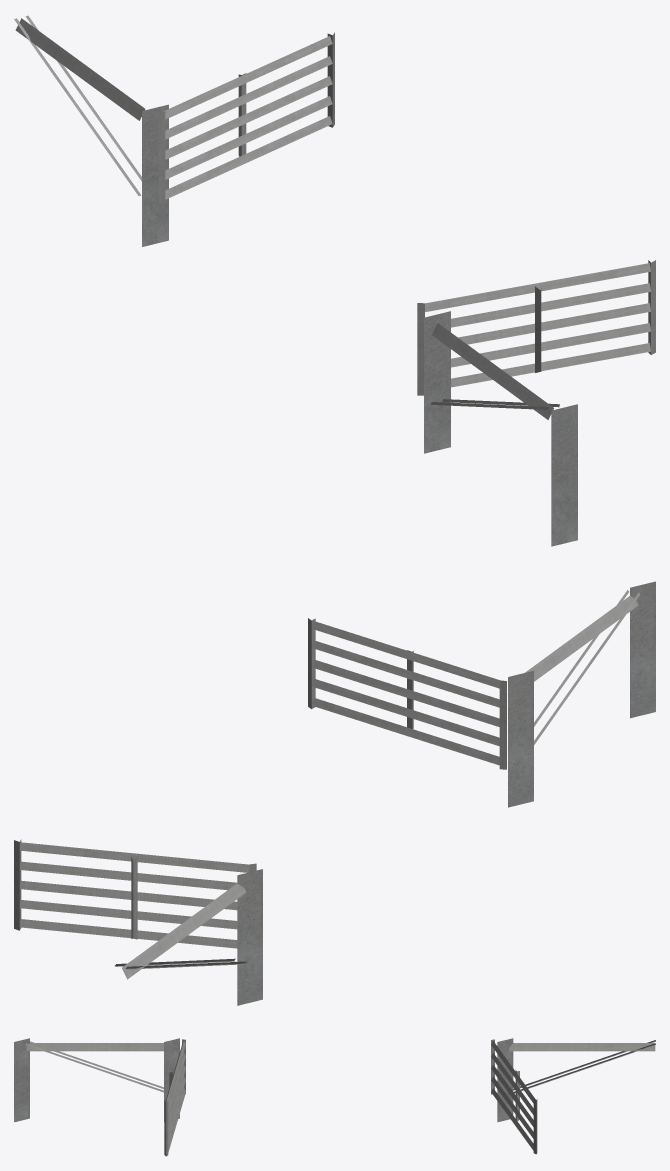
File: farm-fence-gate-open-cbj_LOD01.gltf
3 views of the same model, one above another, from view 1: azimuth 30°, elevation 25°; view 2: azimuth 150°, elevation 25°; view 3: azimuth 270°, elevation 25° (orthographic). The views are drawn at different scales.
Visible parts, largest first — view 1: gate01; view 2: gate01; view 3: gate01.
Boxes of the visible parts, x1,y1,x2,y2 form: gate01: [14, 15, 655, 546]; gate01: [14, 581, 655, 1005]; gate01: [14, 1038, 655, 1156].
Size of what is drawn, in the model's own units: 3.26 by 1.82 by 13.14.
